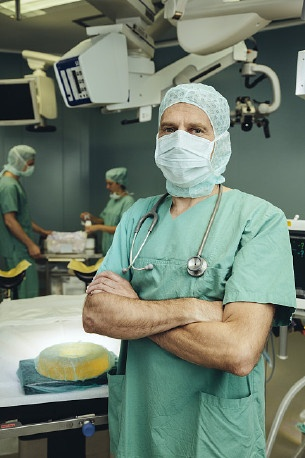Mask: (152, 115, 222, 185)
